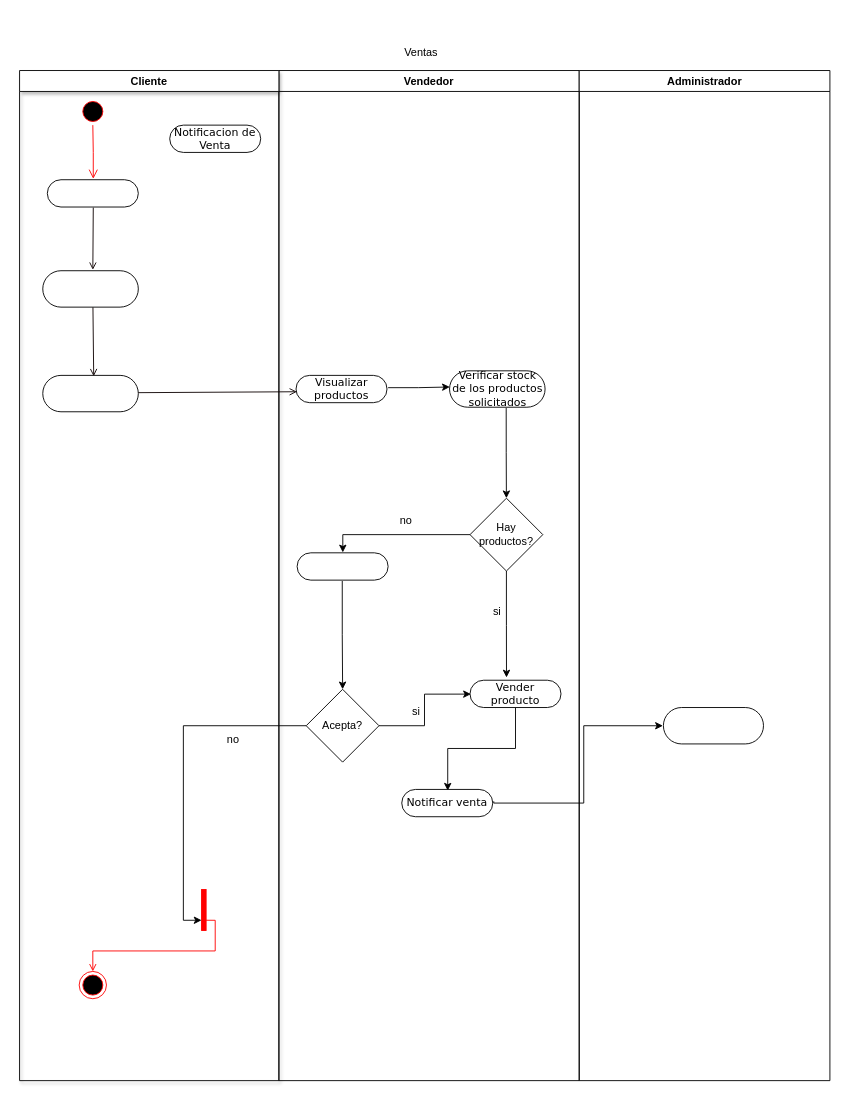
Some shapes in this 846 by 1103 pixel diagram are drawn without their labels. The centre of each missing label's shape, as x and y in pixels:
Abrir menú de inicio: (92,193)
Actualizacion de Inventario: (712,725)
Observar catalogo de productos: (90,288)
Ofrecer alternativas: (342,566)
Selecciona productos de interes: (90,393)
